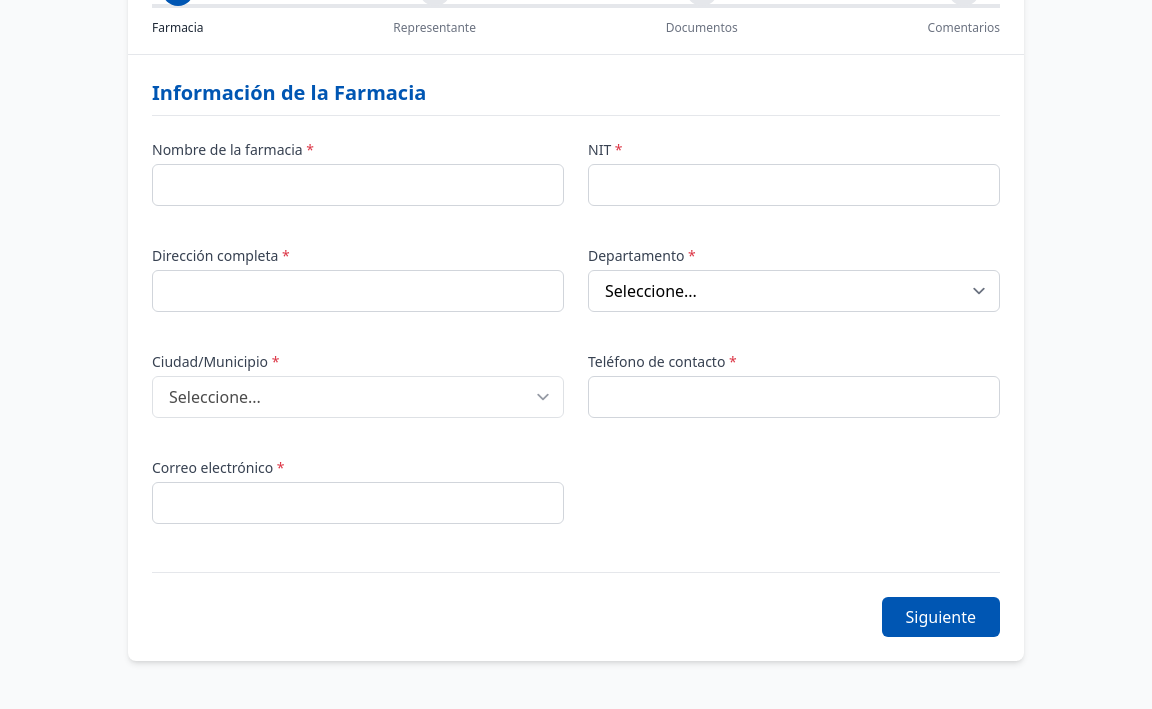
Test: Formulario de Farmacia › No permite avanzar si la primera página está vacía
(page scrolled)
Click the button "Siguiente": click(942, 617) [882, 597, 1001, 637]
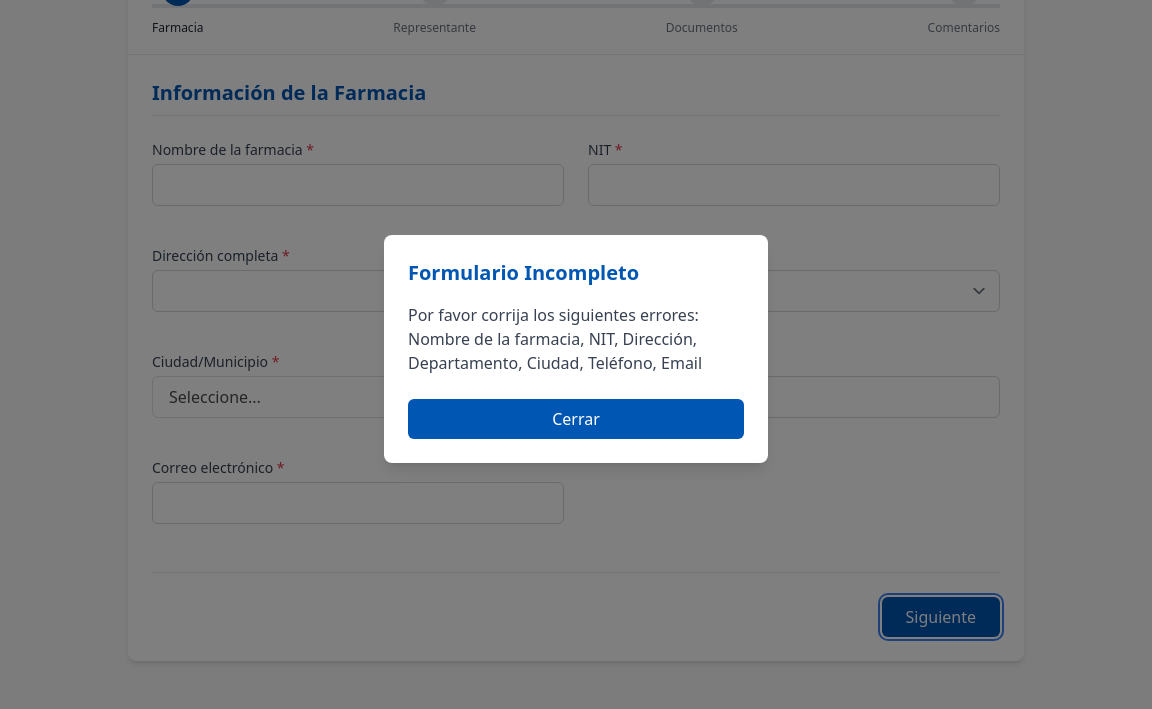
Expected: the text "Por favor corrija los siguientes errores" shows "Nombre de la farmacia", [408, 304, 702, 374]
